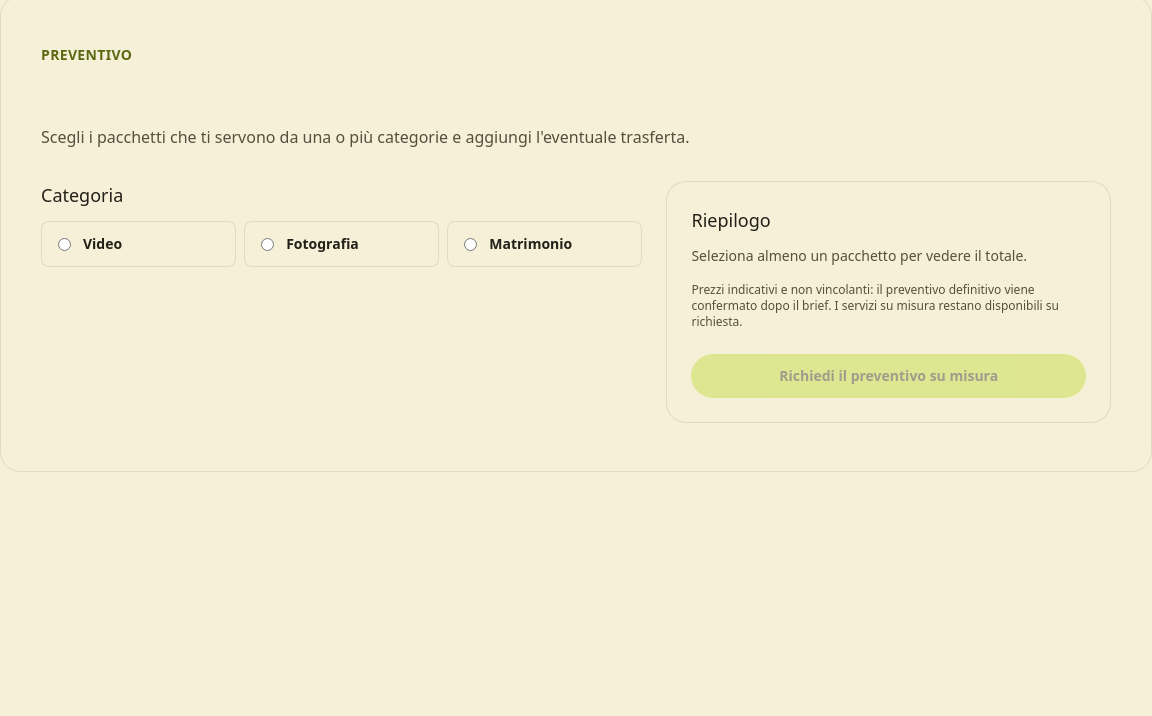
it: QuoteEstimator › marks the over-50-km transfer as to be agreed
Click the radio button labelled "Video": (64,244) left=58, top=238, right=71, bottom=251
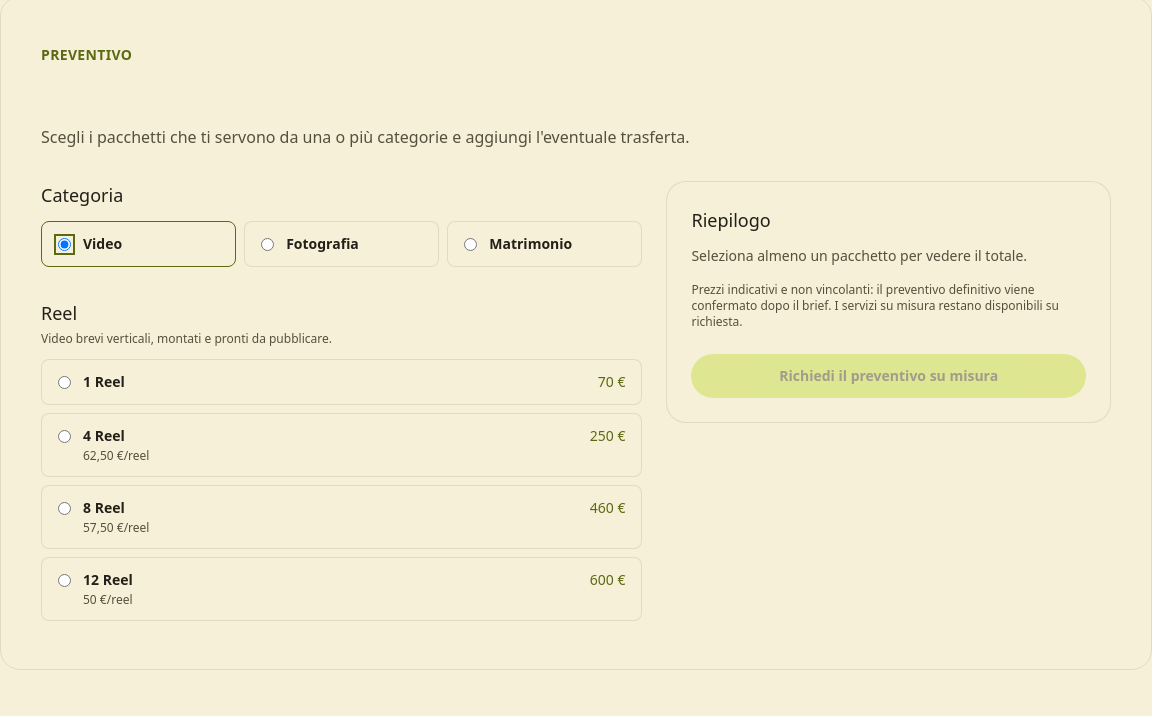
Click the radio button labelled "1 Reel 70 €": (64,382) left=58, top=376, right=71, bottom=389
(page scrolled)
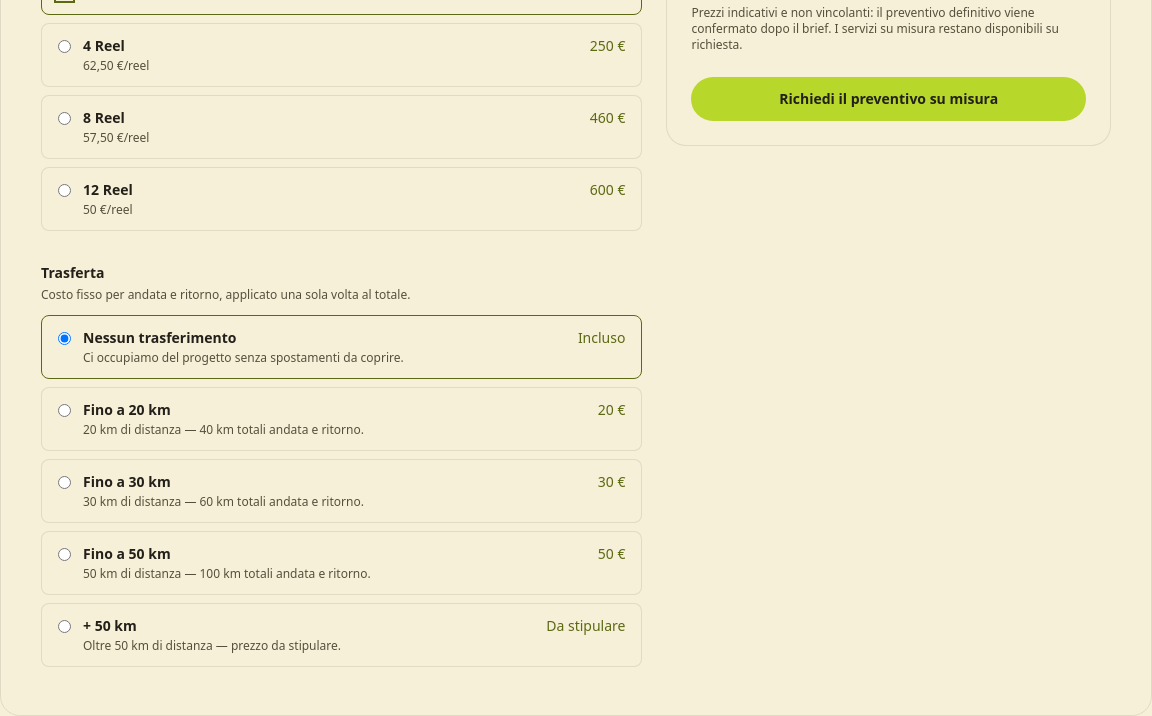
Check: the radio button labelled "+ 50 km" is shown, box left=58, top=620, right=71, bottom=633
Check: the text "Da stipulare" is shown, box left=546, top=616, right=625, bottom=636
